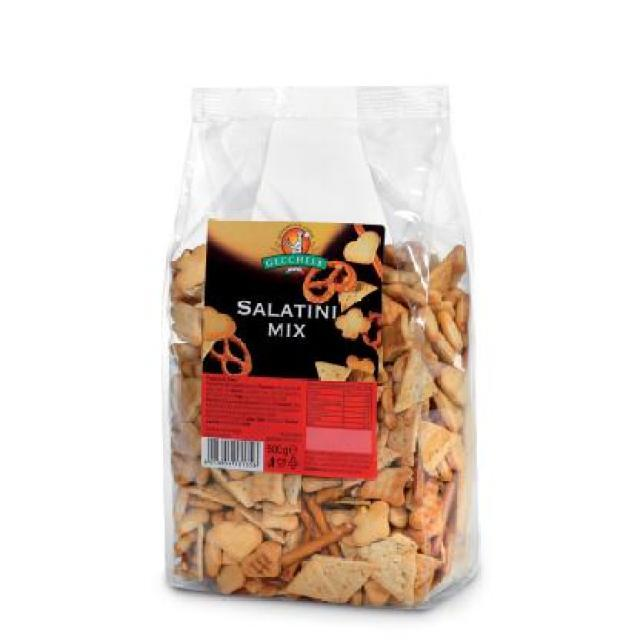Salatini: (160, 76, 488, 614)
